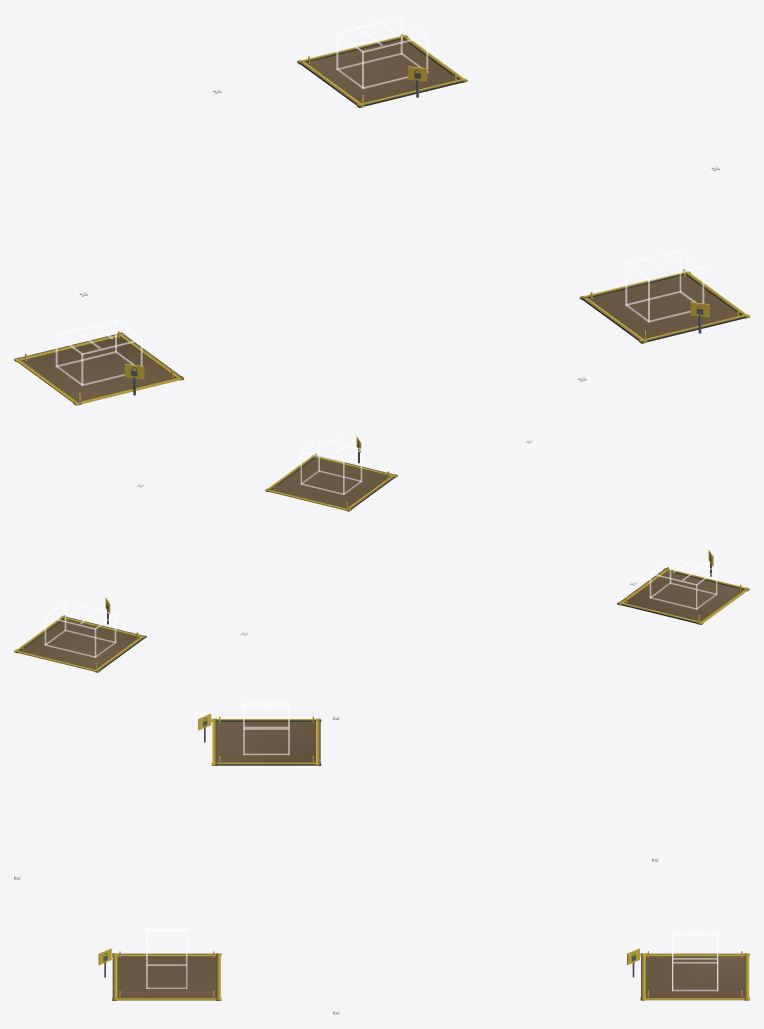
Rendered from Sites_P1.fbx.
3 views of the same model, one above another, from view 1: azimuth 30°, elevation 25°; view 2: azimuth 150°, elevation 25°; view 3: azimuth 270°, elevation 25° (orthographic). The views are drawn at different scales.
Visible parts, largest first — view 1: Site.plant.Pad, Site.quarry.Pad, Site.store.Pad, Site.store.Ghost, Site.plant.Ghost, Site.quarry.Ghost; view 2: Site.store.Pad, Site.quarry.Pad, Site.plant.Pad, Site.store.Ghost, Site.quarry.Ghost, Site.plant.Ghost; view 3: Site.plant.Pad, Site.store.Pad, Site.quarry.Pad, Site.store.Ghost, Site.quarry.Ghost, Site.plant.Ghost.
Boxes of the visible parts, box(x1,y1,x2,y2) form: Site.plant.Pad: box(579, 269, 749, 343); Site.quarry.Pad: box(14, 331, 184, 405); Site.store.Pad: box(297, 33, 467, 107); Site.store.Ghost: box(336, 14, 428, 88); Site.plant.Ghost: box(625, 244, 704, 322); Site.quarry.Ghost: box(55, 318, 142, 385); Site.store.Pad: box(14, 614, 146, 672); Site.quarry.Pad: box(617, 567, 749, 624); Site.plant.Pad: box(265, 453, 397, 511); Site.store.Ghost: box(44, 599, 116, 657); Site.quarry.Ghost: box(649, 557, 717, 609); Site.plant.Ghost: box(300, 434, 362, 494); Site.plant.Pad: box(112, 951, 221, 1000); Site.store.Pad: box(640, 951, 749, 1000); Site.quarry.Pad: box(211, 716, 321, 765); Site.store.Ghost: box(667, 930, 722, 991); Site.quarry.Ghost: box(239, 701, 293, 755); Site.plant.Ghost: box(142, 928, 191, 988).
Bounding box in the file's own units: 28934 × 2407 × 29534.
